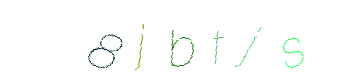8: (91, 0, 171, 80)
B: (139, 0, 219, 80)
J: (112, 0, 192, 80), (157, 0, 237, 80)
S: (243, 0, 323, 80)
T: (144, 0, 224, 80)
